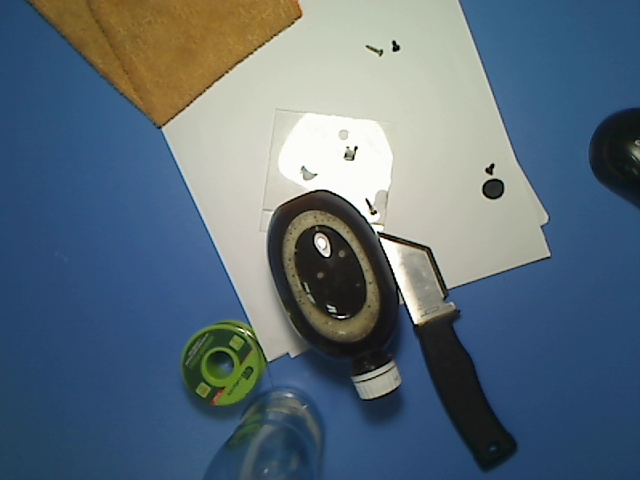plast_bottle: (265, 186, 406, 406)
